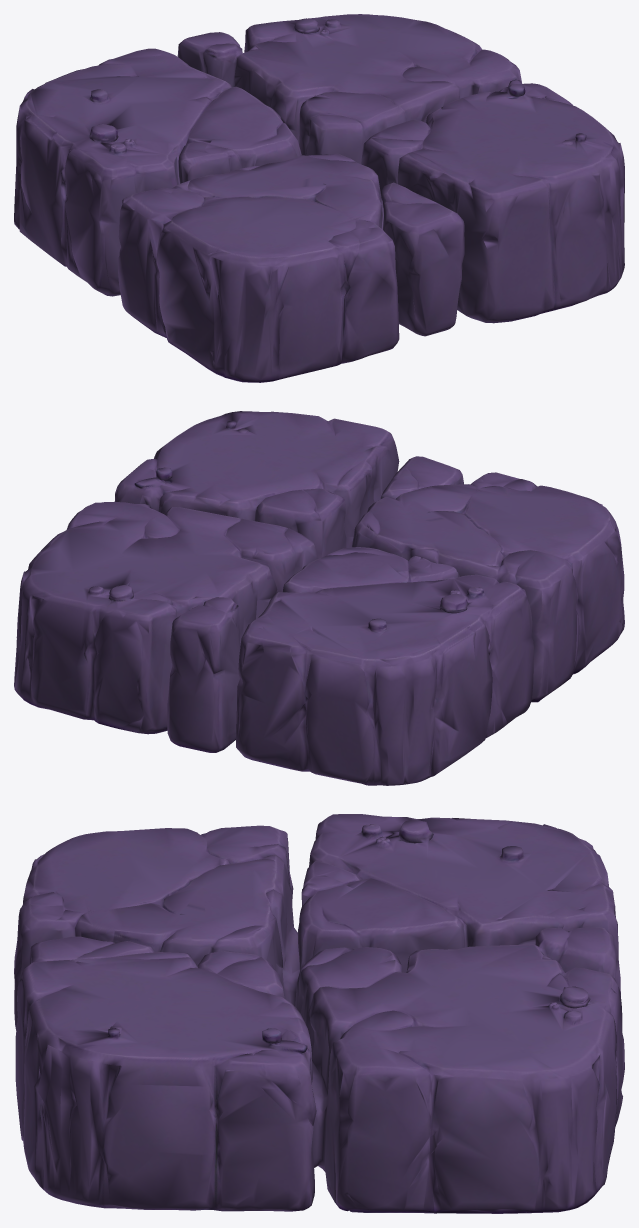
Rendered from bloques_de_espuma_morada.glb.
3 renders of one model, top to bottom at view 1: azimuth 30°, elevation 25°; view 2: azimuth 150°, elevation 25°; view 3: azimuth 270°, elevation 25°, orthographic. The views are drawn at different scales.
Parts seen in each view (by area): view 1: bloques_de_espuma_morada; view 2: bloques_de_espuma_morada; view 3: bloques_de_espuma_morada.
Boxes of the visible parts, x1,y1,x2,y2 form: bloques_de_espuma_morada: [14, 14, 624, 382]; bloques_de_espuma_morada: [14, 411, 624, 785]; bloques_de_espuma_morada: [14, 814, 624, 1213].
Size of what is drawn, in the model's own units: 4.91 by 1.5 by 4.98.
1 material, 1 textured.
